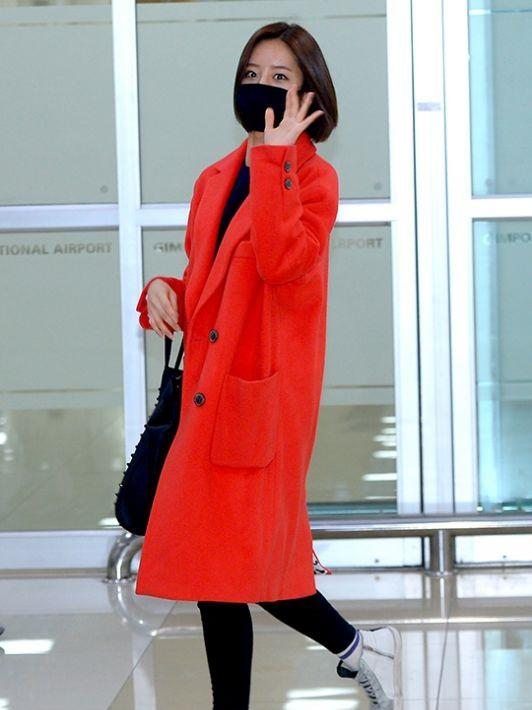OK: (228, 53, 304, 129)
